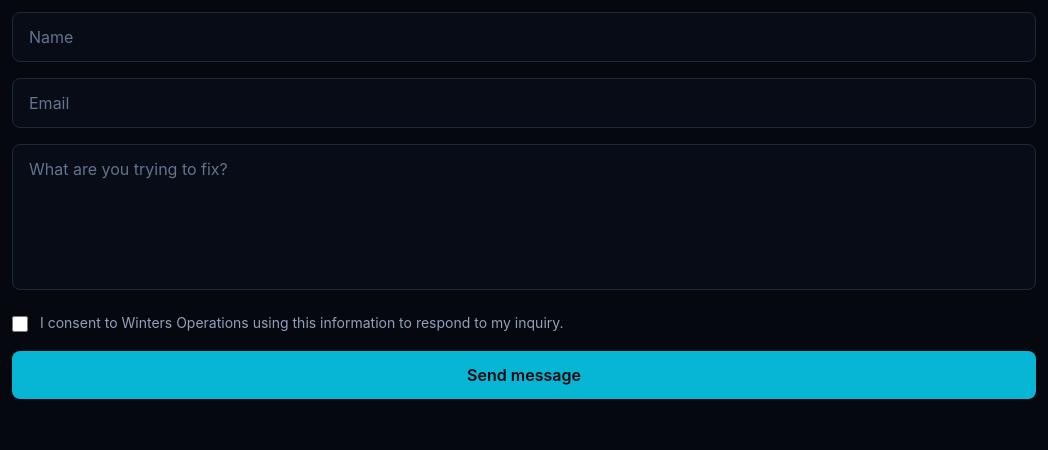
ContactForm › shows an error message when the response is not ok
In the field with placeholder "Name": (524, 37) left=12, top=12, right=1036, bottom=62, type "Jane Doe"
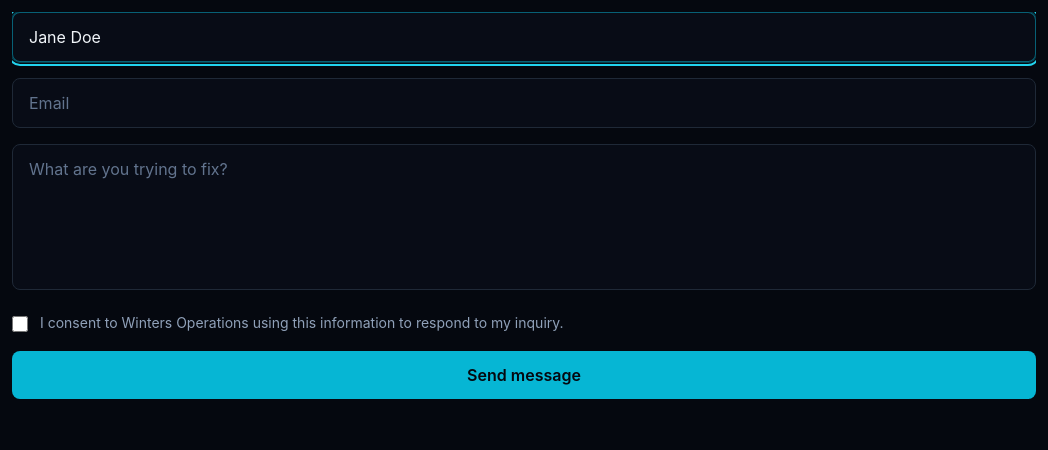
In the field with placeholder "Email": (524, 103) left=12, top=78, right=1036, bottom=128, type "jane@example.com"
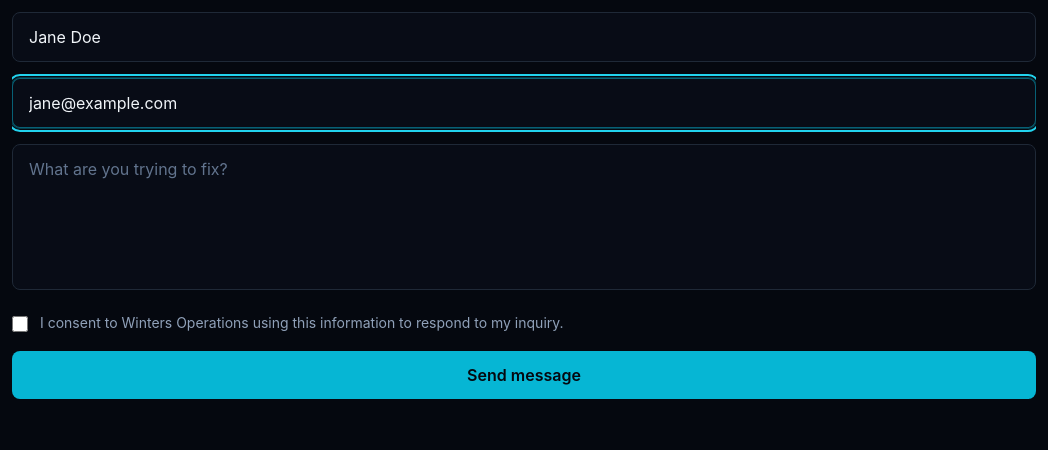
In the text box with placeholder "What are you trying to fix?": (524, 217) left=12, top=144, right=1036, bottom=290, type "Our WAN keeps flapping."
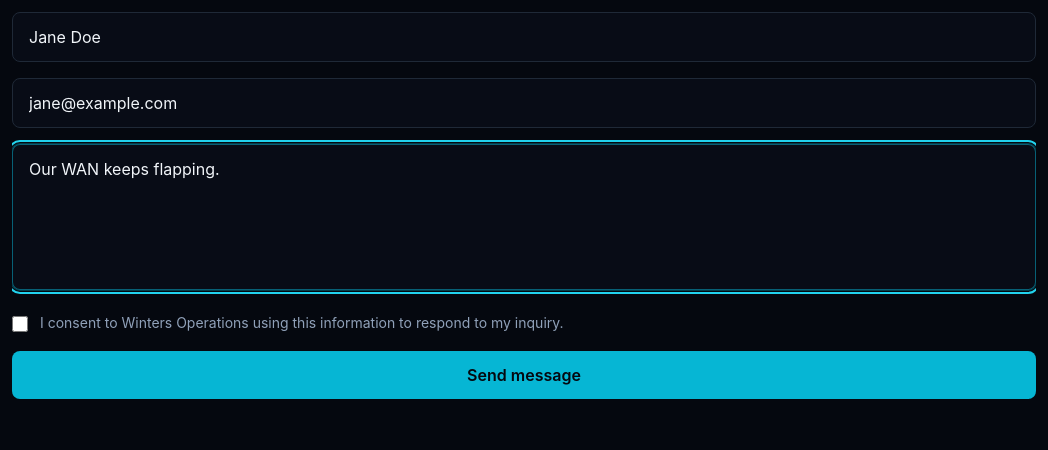
Click the checkbox: click(20, 324) left=12, top=316, right=28, bottom=332
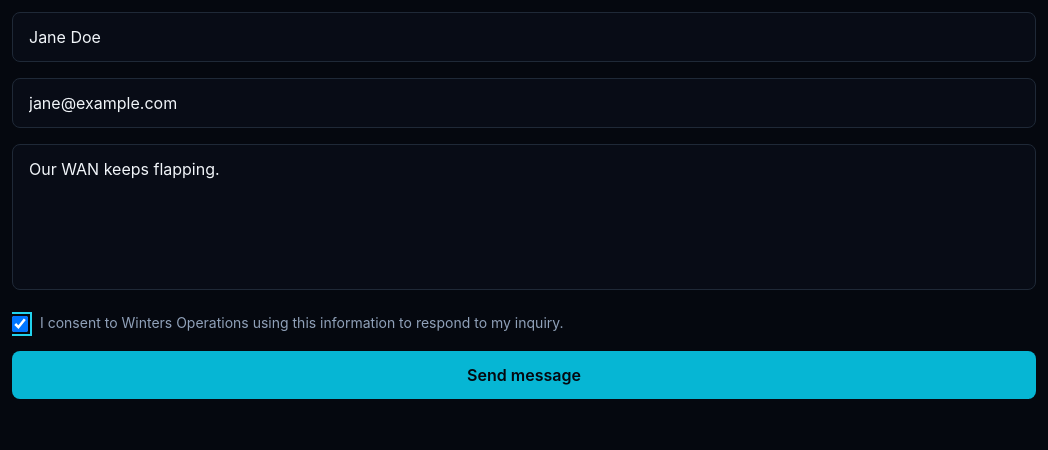
Click the button "Send message": click(524, 375) left=12, top=351, right=1036, bottom=399
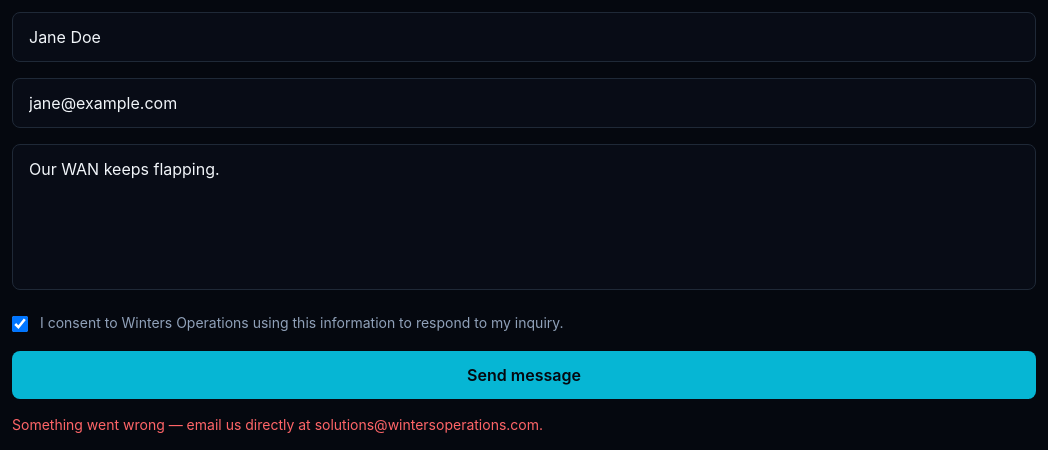
expect the text "Something went wrong — email us directly at solutions@wintersoperations.com." is shown: met, box left=12, top=416, right=543, bottom=433
